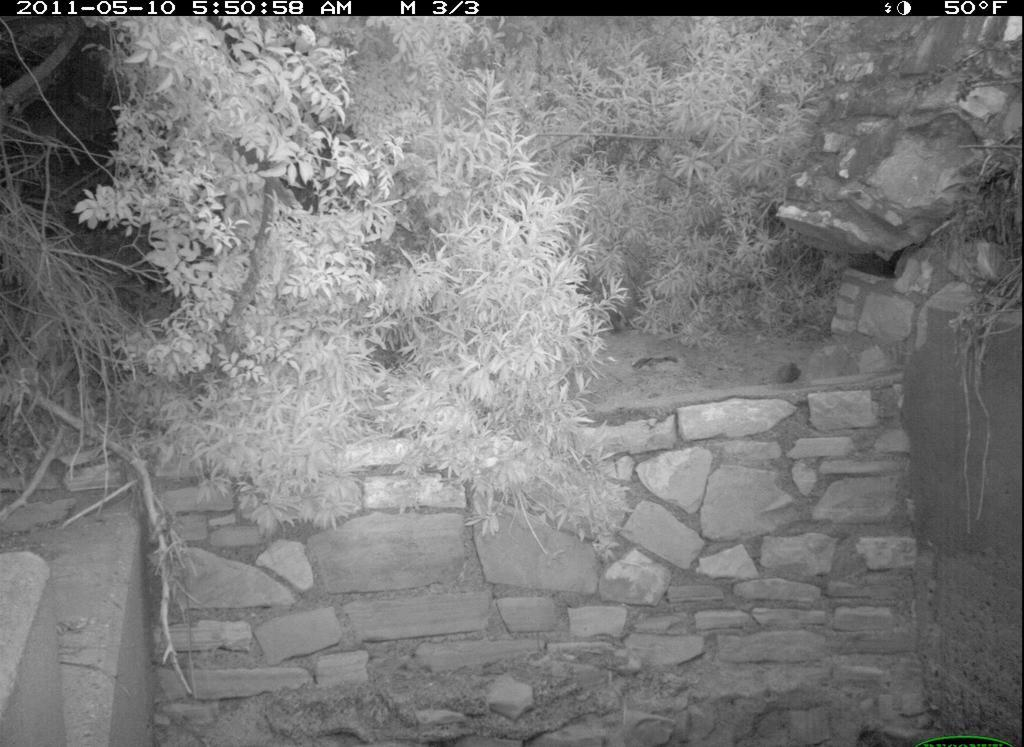opossum: (595, 267, 651, 341)
